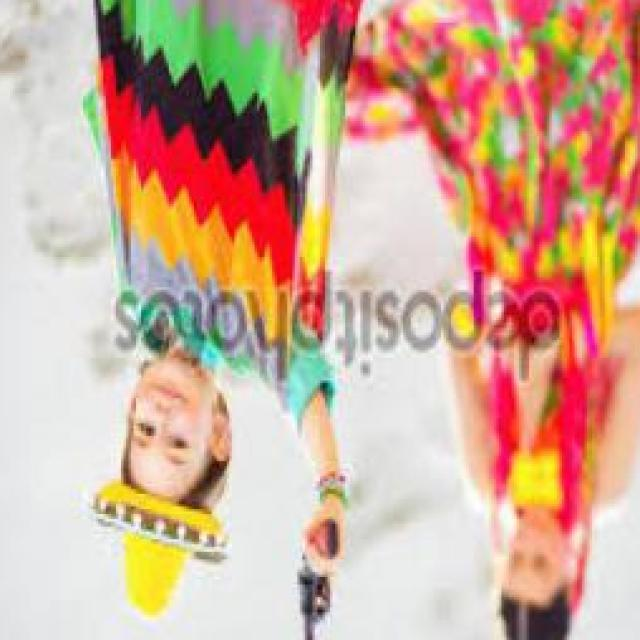pistol: (284, 506, 348, 640)
